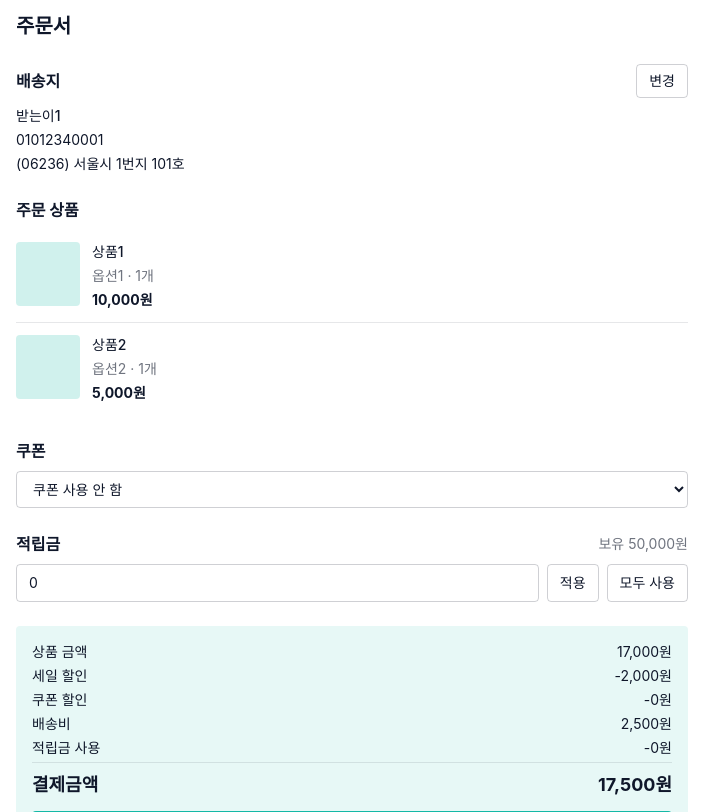
Test: 쿠폰을 고르면 memberCouponId로 다시 미리보기한다
Expected: the text "상품1" is shown, [92, 243, 124, 260]
Select "3천원 쿠폰 · 3,000원 할인" in the dropdown named "쿠폰" at (352, 490), box [16, 471, 688, 508]
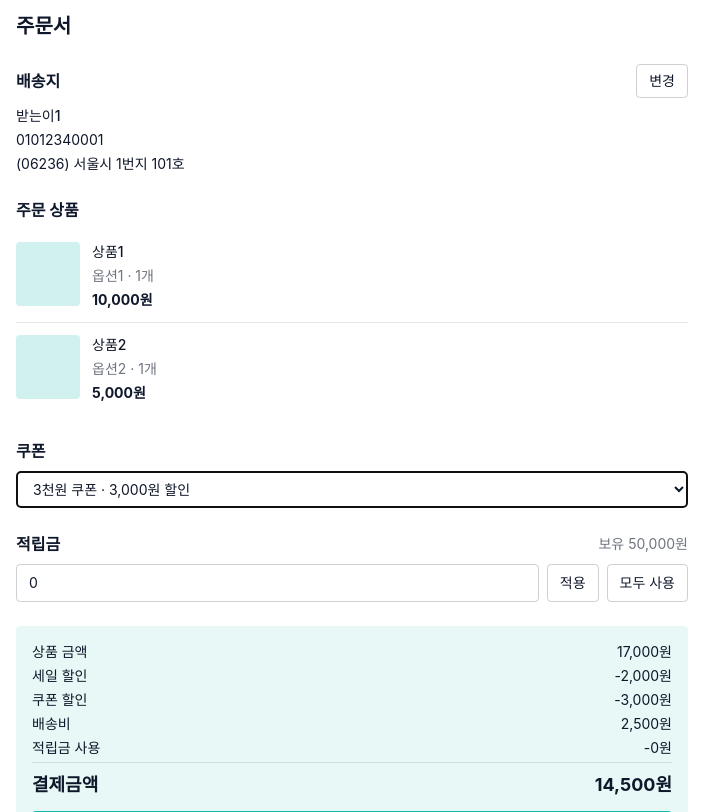
Expected: the text "쿠폰 할인" shows "-3,000원", [614, 691, 672, 708]
